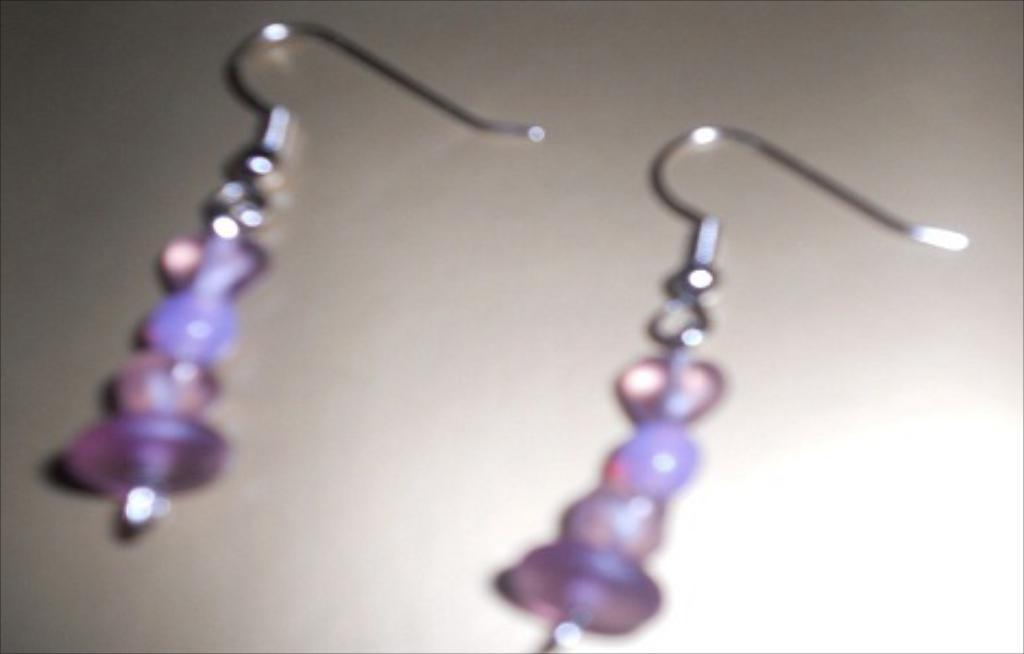earring: (59, 20, 967, 647)
